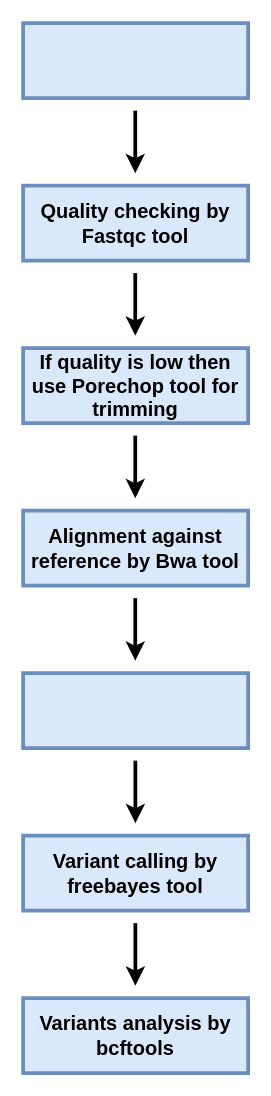
Image size: 271x1096. Some labels were removed from this diagram. Each missing label, with the centre of its shape:
Raw reads: the point at 135,60
SAM to BAM conversion by samtools: the point at 135,710
